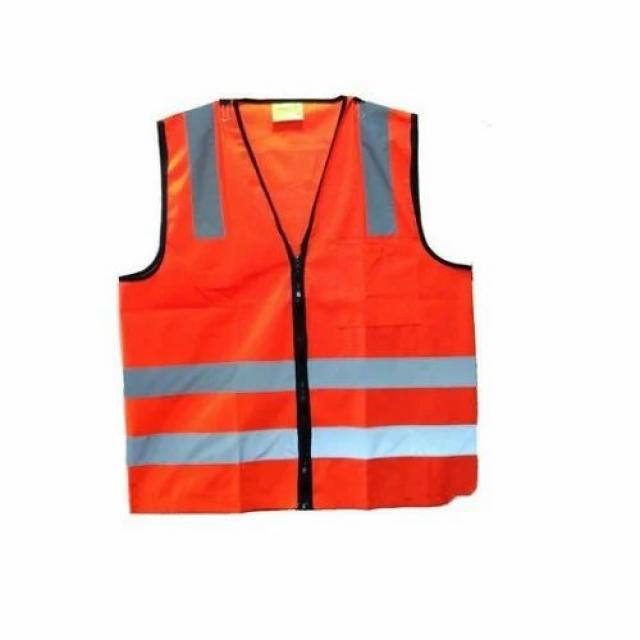Reflective-Jacket: (82, 63, 512, 536)
